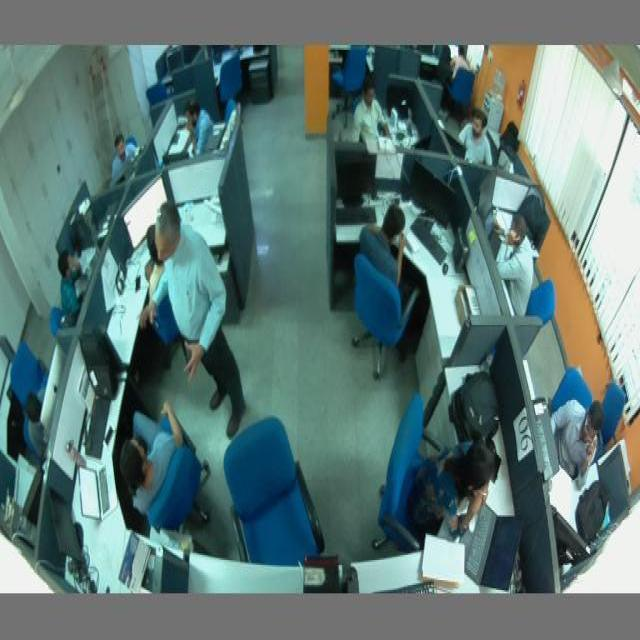chair: (225, 414, 326, 569), (374, 391, 439, 559), (352, 254, 420, 384), (144, 445, 213, 537), (548, 366, 594, 427), (9, 341, 46, 404), (333, 47, 368, 110), (599, 385, 630, 442), (524, 279, 558, 326), (220, 55, 244, 110), (446, 71, 476, 112), (147, 82, 169, 102)
keyboard: (412, 215, 449, 267), (380, 582, 438, 595), (332, 207, 376, 223)
laptop: (467, 501, 515, 594), (77, 462, 116, 518)
monitor: (407, 163, 468, 239), (120, 174, 173, 246), (48, 483, 84, 567), (334, 150, 378, 197), (552, 510, 590, 558), (476, 166, 501, 221)
person: (142, 200, 250, 440), (406, 440, 494, 542), (121, 402, 182, 515), (548, 398, 604, 492), (362, 207, 411, 293), (495, 213, 535, 317), (352, 80, 389, 148), (58, 240, 88, 323), (182, 98, 216, 162), (460, 110, 496, 165), (108, 130, 142, 185), (24, 387, 46, 458)
phone: (103, 426, 114, 444)
